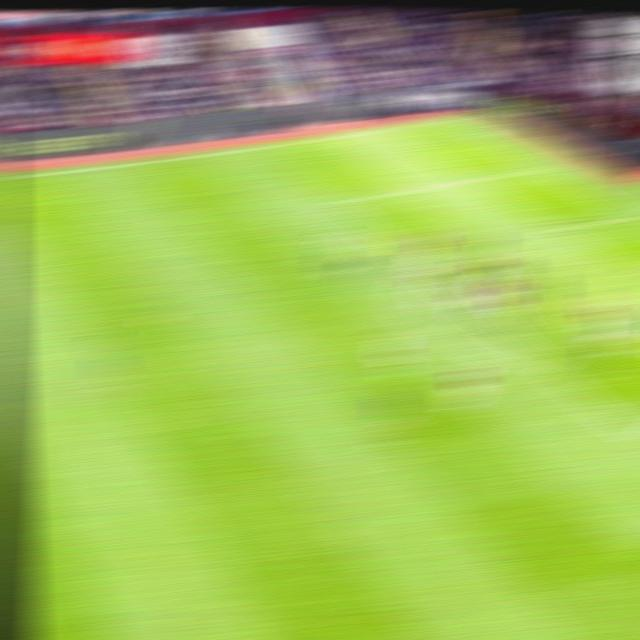bigarea_top_inner: (318, 192, 351, 211)
bigarea_top_outter: (522, 159, 555, 175)
bottom_arc_area_intersection: (532, 357, 568, 380)
corner: (429, 111, 462, 126)
smallarea_top_inner: (542, 218, 576, 238)
smallarea_top_outter: (614, 205, 640, 223)
top_arc_area_intersection: (401, 257, 433, 274)
